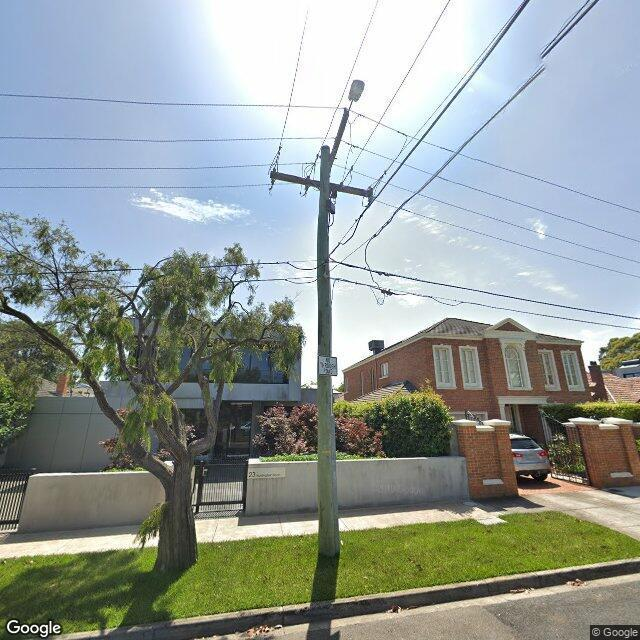crossarm: (270, 171, 373, 197), (330, 108, 349, 171)
streetlight: (347, 80, 365, 112)
timber-pole: (317, 145, 340, 559)
